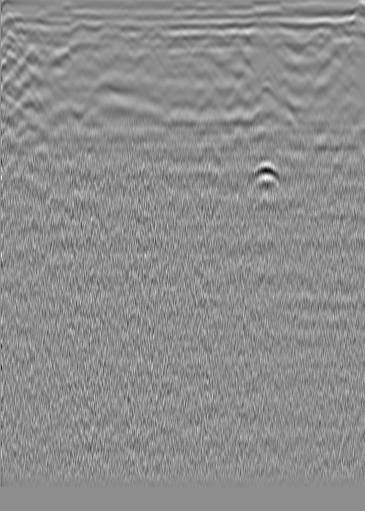가스: (248, 160, 281, 191)
상수: (24, 23, 44, 43)
오수: (313, 26, 333, 46)
우수: (169, 30, 189, 50)
